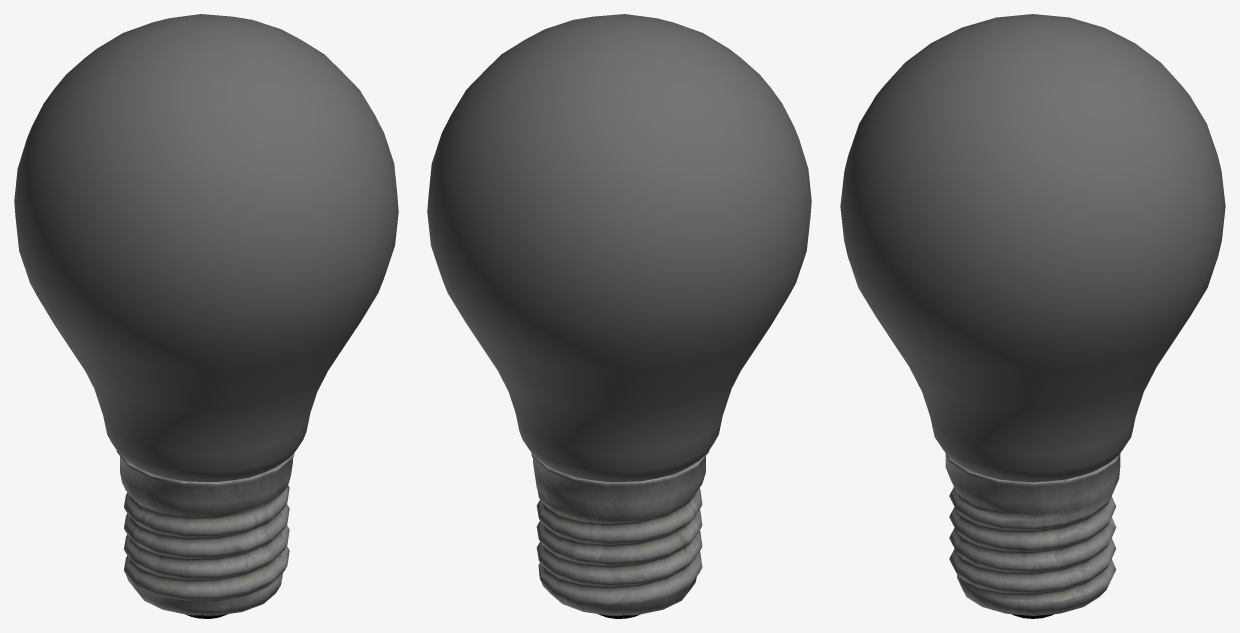
The picture shows the model from 3 angles, left to right: view 1: azimuth 30°, elevation 25°; view 2: azimuth 150°, elevation 25°; view 3: azimuth 270°, elevation 25°; orthographic projection.
Parts seen in each view (by area): view 1: Object_2, Object_3; view 2: Object_2, Object_3; view 3: Object_2, Object_3.
Part boxes in pixels (x1,y1,x2,y2): Object_2: [14, 14, 398, 481]; Object_3: [116, 451, 294, 618]; Object_2: [427, 14, 811, 481]; Object_3: [531, 451, 709, 618]; Object_2: [840, 14, 1225, 482]; Object_3: [945, 453, 1120, 618].
Bounding box in the file's own units: 6 × 10.03 × 6.
Materials: 2 (1 with a texture image).
